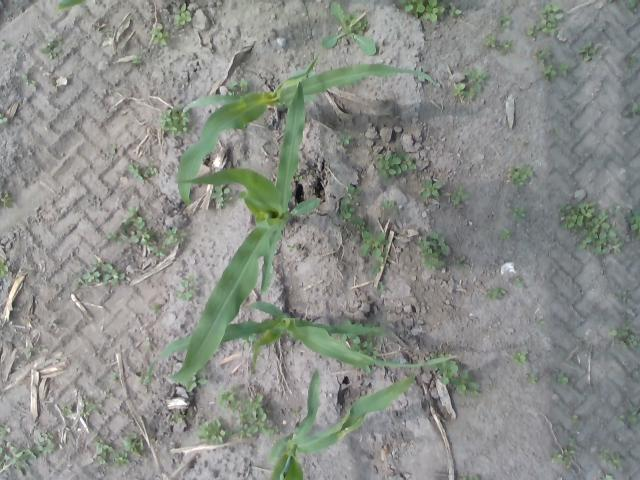Maize: (168, 63, 322, 382), (176, 54, 443, 208), (147, 300, 459, 384), (268, 368, 415, 480), (57, 0, 88, 11)
Weeds: (106, 204, 186, 258), (216, 383, 284, 442), (559, 199, 625, 257), (0, 424, 59, 479), (321, 1, 381, 55), (92, 432, 147, 469), (72, 256, 127, 292), (433, 355, 481, 395), (415, 231, 455, 271), (398, 0, 465, 22), (527, 3, 566, 40), (157, 104, 194, 139), (376, 151, 418, 181), (609, 312, 640, 350), (452, 68, 488, 100), (62, 398, 108, 423), (537, 48, 571, 81), (550, 436, 579, 474), (358, 230, 390, 264), (195, 419, 232, 448), (340, 185, 365, 219), (172, 274, 200, 303), (124, 161, 162, 182), (507, 162, 535, 188), (41, 32, 66, 61), (598, 446, 626, 470), (379, 198, 402, 225), (614, 406, 640, 428), (171, 1, 192, 28), (578, 40, 600, 65), (418, 176, 442, 198), (186, 378, 212, 395), (352, 336, 378, 353), (210, 185, 231, 206), (150, 22, 170, 44), (511, 350, 536, 367), (450, 186, 470, 206), (550, 370, 572, 387), (495, 9, 514, 28), (228, 78, 250, 94), (484, 286, 509, 300), (21, 73, 38, 93), (169, 410, 187, 428), (455, 254, 475, 270), (628, 207, 640, 232), (510, 274, 528, 290), (625, 54, 638, 76), (338, 134, 358, 148), (0, 255, 11, 280), (623, 102, 640, 118), (484, 34, 498, 52), (618, 290, 632, 308), (1, 193, 18, 207), (146, 303, 164, 316), (500, 40, 512, 57), (527, 372, 541, 385), (513, 206, 525, 220), (352, 218, 368, 228), (625, 0, 639, 10), (502, 228, 513, 240), (112, 370, 122, 383), (287, 243, 298, 254), (554, 126, 564, 138), (24, 348, 34, 360), (292, 407, 304, 417), (377, 282, 387, 294), (370, 266, 382, 276), (601, 473, 617, 480), (0, 114, 9, 124), (134, 54, 144, 63), (459, 471, 468, 480), (295, 172, 304, 181), (538, 314, 546, 324), (572, 414, 580, 424), (241, 338, 249, 348), (520, 139, 530, 146), (473, 475, 482, 480)
